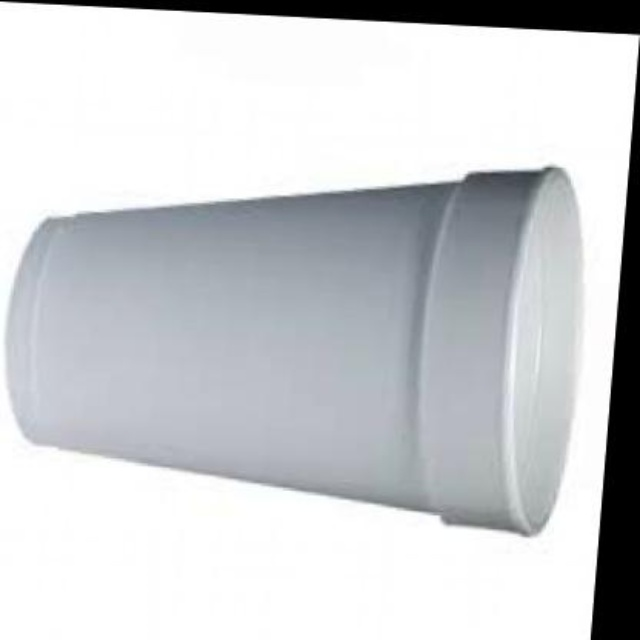trash: (6, 168, 580, 532)
